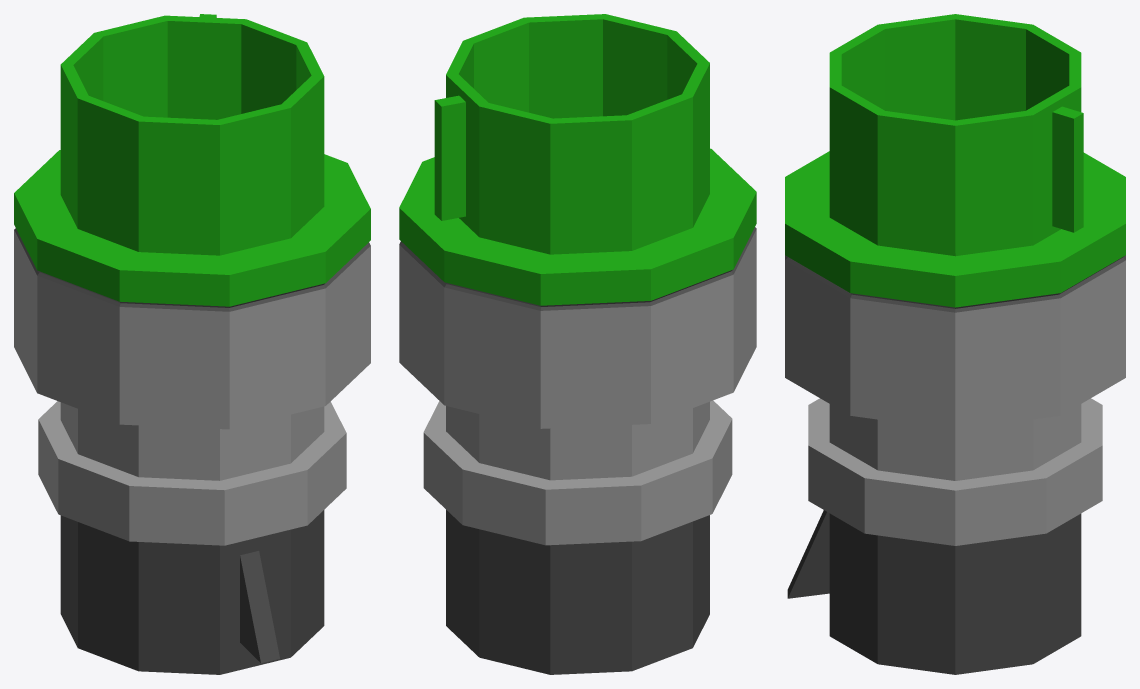
The model's file is SM_plugGreen.fbx.
3 views of the same model, side by side, from view 1: azimuth 30°, elevation 25°; view 2: azimuth 150°, elevation 25°; view 3: azimuth 270°, elevation 25° (orthographic).
Visible parts, largest first — view 1: SM_plugGreen; view 2: SM_plugGreen; view 3: SM_plugGreen.
Part boxes in pixels (bbox=[...]): SM_plugGreen: bbox=[14, 14, 370, 674]; SM_plugGreen: bbox=[399, 14, 756, 674]; SM_plugGreen: bbox=[785, 14, 1125, 674].
Bounding box in the file's own units: 0.2083 × 0.3524 × 0.1981.
